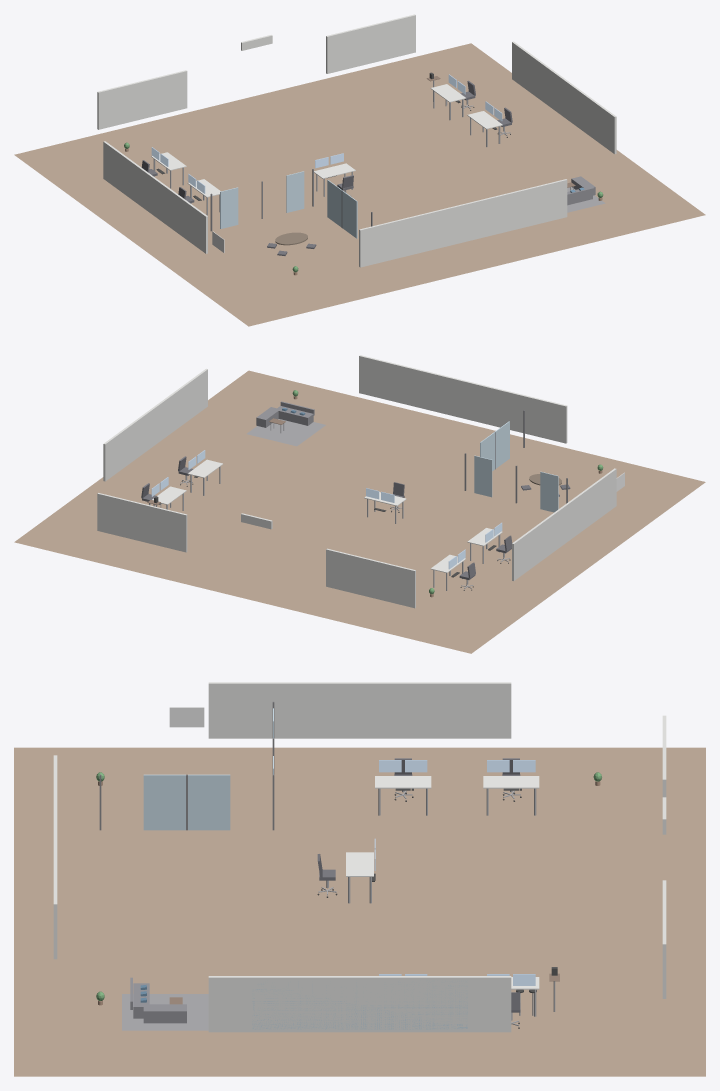
Rendered from office_v11.glb.
3 renders of one model, top to bottom at view 1: azimuth 30°, elevation 25°; view 2: azimuth 150°, elevation 25°; view 3: azimuth 270°, elevation 25°, orthographic. The views are drawn at different scales.
Parts seen in each view (by area): view 1: Floor, Back_Wall, Right_Wall, Left_Wall, Front_Wall_Left, Front_Wall_Right, Cube.002, Cube.001, Cube; view 2: Floor, Back_Wall, Right_Wall, Left_Wall, Front_Wall_Right, Front_Wall_Left, Plane, Cube.002, Cube.001, Cube; view 3: Floor, Right_Wall, Left_Wall, Cube.002, Window, Plane, Back_Wall, Cube.075, Cube.012, Cube.013, Cube.025, Cube.037.
Boxes of the visible parts, box(x1,y1,x2,y2) form: Floor: box(14, 43, 705, 326); Back_Wall: box(359, 179, 567, 267); Right_Wall: box(512, 41, 616, 154); Left_Wall: box(103, 141, 207, 253); Front_Wall_Left: box(97, 70, 187, 129); Front_Wall_Right: box(326, 14, 415, 73); Cube.002: box(327, 180, 357, 238); Cube.001: box(286, 171, 304, 212); Cube: box(220, 187, 238, 228); Floor: box(14, 370, 705, 653); Back_Wall: box(359, 355, 567, 443); Right_Wall: box(103, 368, 207, 481); Left_Wall: box(512, 468, 616, 580); Front_Wall_Right: box(97, 493, 187, 552); Front_Wall_Left: box(326, 548, 415, 608); Plane: box(247, 419, 325, 446); Cube.002: box(480, 421, 509, 470); Cube.001: box(474, 455, 492, 497); Cube: box(540, 471, 558, 512); Floor: box(14, 747, 705, 1076); Right_Wall: box(208, 976, 511, 1032); Left_Wall: box(208, 682, 511, 738); Cube.002: box(143, 774, 230, 830); Window: box(252, 981, 467, 1029); Plane: box(122, 994, 208, 1030); Back_Wall: box(53, 755, 57, 959); Cube.075: box(143, 1004, 186, 1023); Cube.012: box(169, 707, 204, 727); Cube.013: box(375, 776, 431, 788); Cube.025: box(483, 776, 539, 788); Cube.037: box(346, 852, 373, 876).
Bounding box in the file's own units: 18 × 2.65 × 16.
